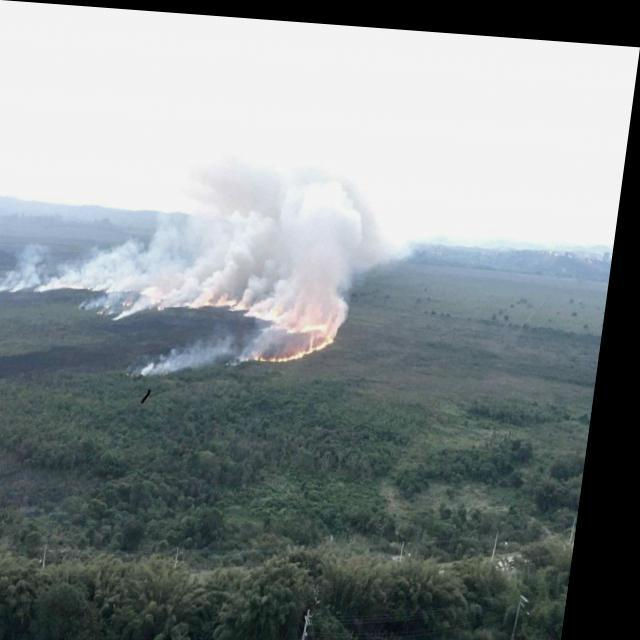Fire: (262, 308, 344, 362)
